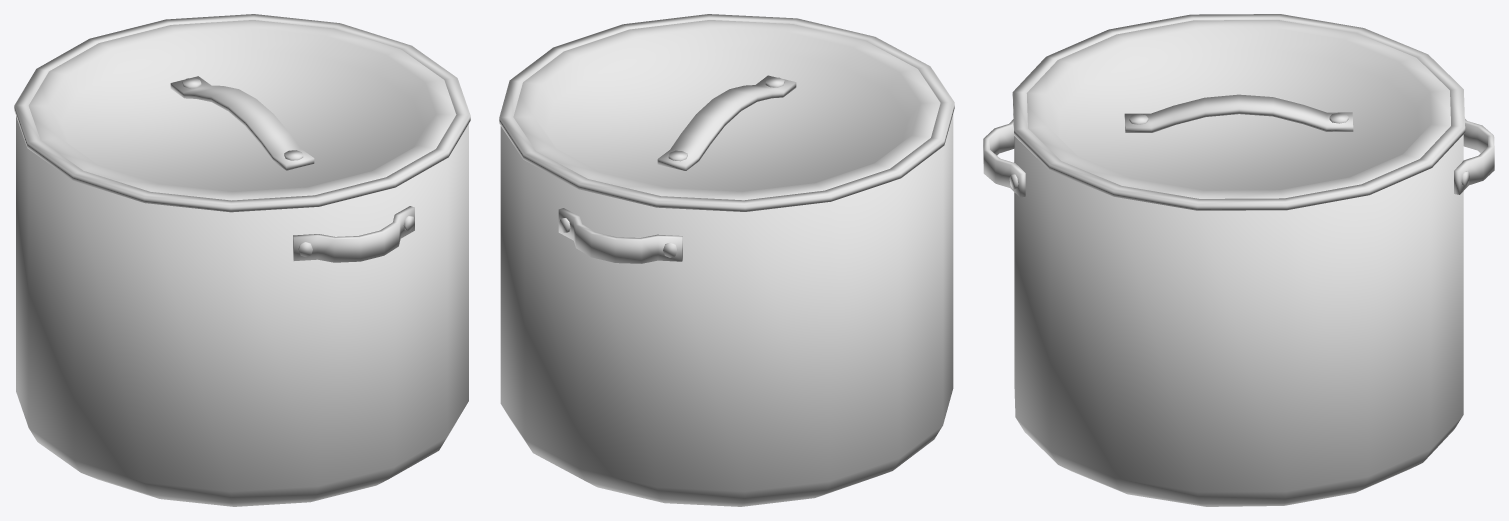
The model's file is Pressure_Cookers_Collider.fbx.
3 views of the same model, side by side, from view 1: azimuth 30°, elevation 25°; view 2: azimuth 150°, elevation 25°; view 3: azimuth 270°, elevation 25° (orthographic).
Visible parts, largest first — view 1: Pressure_Cookers_Collider; view 2: Pressure_Cookers_Collider; view 3: Pressure_Cookers_Collider.
Part boxes in pixels (x1,y1,x2,y2): Pressure_Cookers_Collider: [14, 14, 470, 506]; Pressure_Cookers_Collider: [499, 14, 954, 506]; Pressure_Cookers_Collider: [983, 14, 1494, 506].
Bounding box in the file's own units: 42.81 × 34.23 × 48.37.
